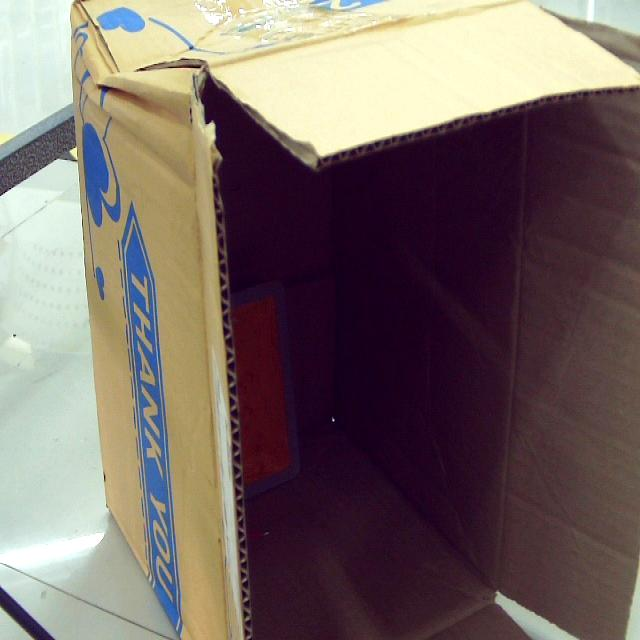block: (227, 278, 303, 500)
